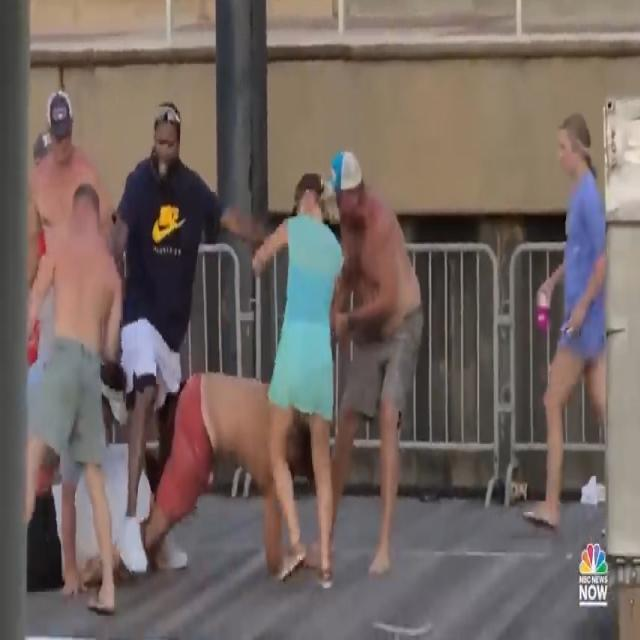fight: (4, 71, 462, 628), (523, 98, 611, 541)
